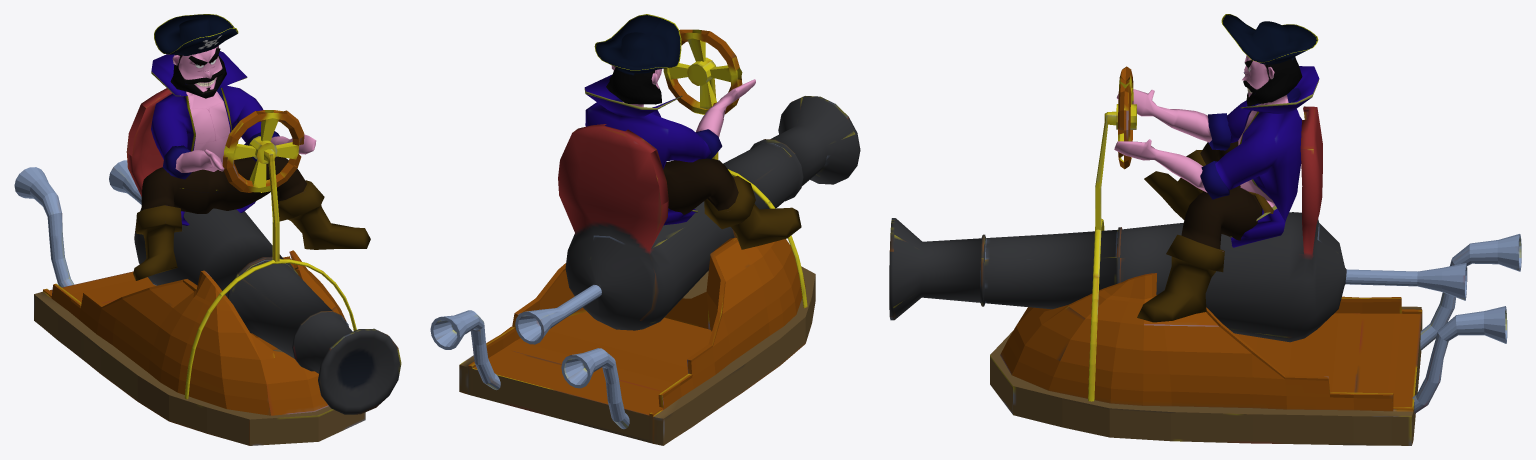
Rendered from pirataGiroDER_000254.obj.
The picture shows the model from 3 angles, left to right: view 1: azimuth 30°, elevation 25°; view 2: azimuth 150°, elevation 25°; view 3: azimuth 270°, elevation 25°; orthographic projection. The views are drawn at different scales.
Visible parts, largest first — view 1: carro_pirata, Pirata_PirataH; view 2: carro_pirata, Pirata_PirataH; view 3: carro_pirata, Pirata_PirataH.
Part boxes in pixels (left/top/right/bottom): carro_pirata: left=14, top=88, right=401, bottom=445; Pirata_PirataH: left=133, top=14, right=370, bottom=280; carro_pirata: left=430, top=29, right=860, bottom=445; Pirata_PirataH: left=584, top=14, right=801, bottom=249; carro_pirata: left=889, top=66, right=1521, bottom=445; Pirata_PirataH: left=1114, top=14, right=1319, bottom=322.
Bounding box in the file's own units: 5.66 × 7.72 × 12.1.
Materials: 2 (2 with a texture image).
